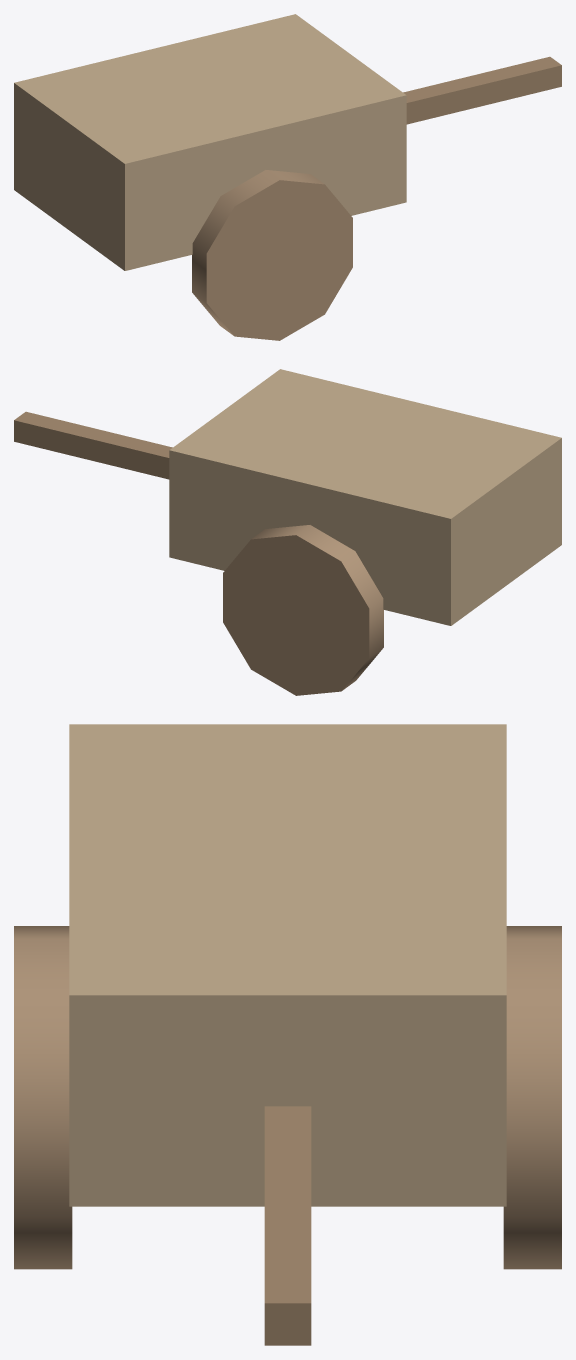
File: cart.glb
3 renders of one model, top to bottom at view 1: azimuth 30°, elevation 25°; view 2: azimuth 150°, elevation 25°; view 3: azimuth 270°, elevation 25°, orthographic. The views are drawn at different scales.
Parts seen in each view (by area): view 1: cart; view 2: cart; view 3: cart.
Boxes of the visible parts, left/top/right/bottom form: cart: left=14, top=14, right=561, bottom=340; cart: left=14, top=369, right=561, bottom=695; cart: left=14, top=724, right=561, bottom=1345.
Size of the model in its own units: 1.9 by 0.75 by 0.94.
